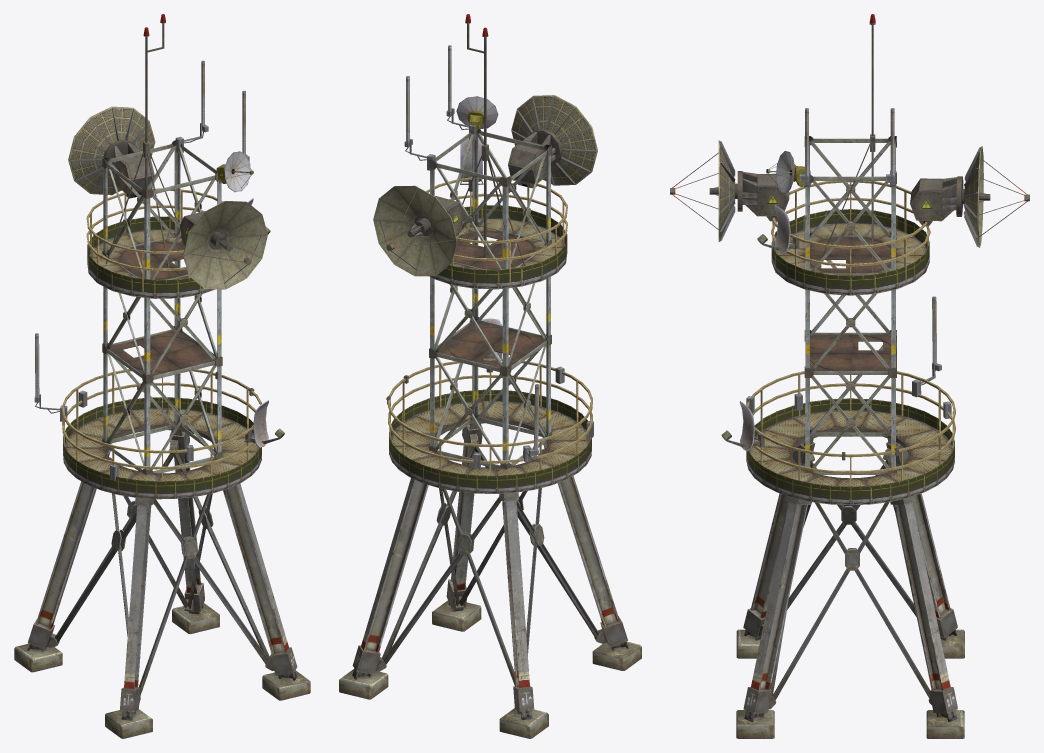
3 views of the same model, side by side, from view 1: azimuth 30°, elevation 25°; view 2: azimuth 150°, elevation 25°; view 3: azimuth 270°, elevation 25° (orthographic). The views are drawn at different scales.
Parts seen in each view (by area): view 1: b17; view 2: b17; view 3: b17.
Boxes of the visible parts, x1,y1,x2,y2 form: b17: (14, 14, 310, 738); b17: (339, 14, 641, 738); b17: (670, 14, 1029, 738).
Bounding box in the file's own units: 6.35 × 20.89 × 10.
Materials: 1 (1 with a texture image).
